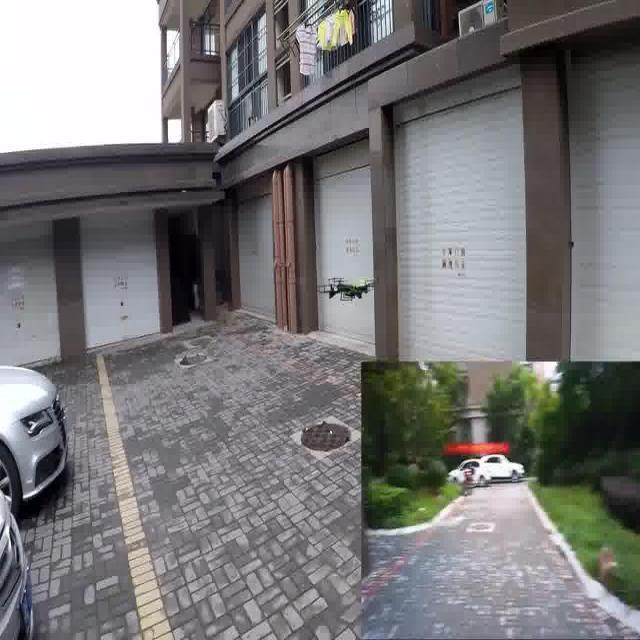drone: (317, 269, 377, 307)
